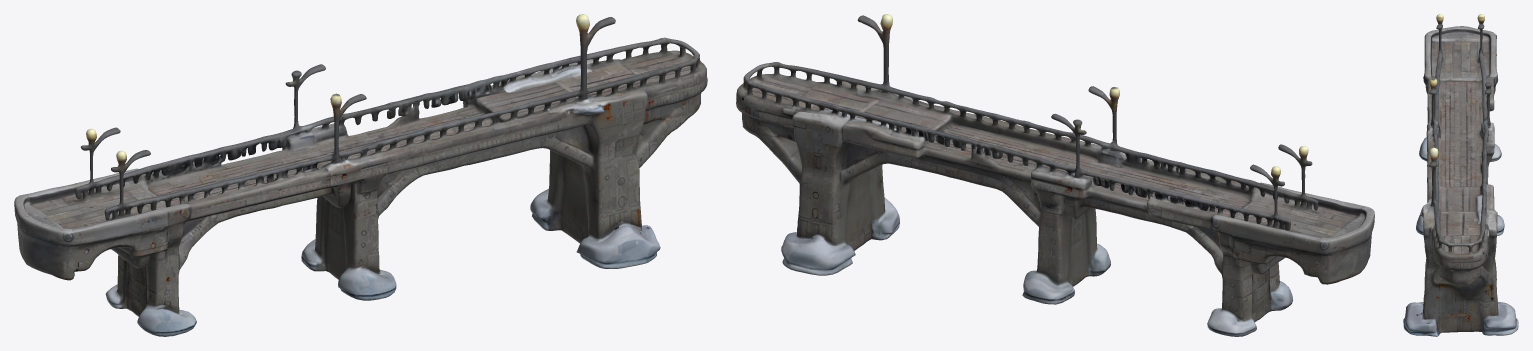
The model's file is tomsk_bridge.glb.
3 views of the same model, side by side, from view 1: azimuth 30°, elevation 25°; view 2: azimuth 150°, elevation 25°; view 3: azimuth 270°, elevation 25° (orthographic). The views are drawn at different scales.
Visible parts, largest first — view 1: tripo_node_c25822bb-dffb-48bd-b02d-7e86b9da2da3; view 2: tripo_node_c25822bb-dffb-48bd-b02d-7e86b9da2da3; view 3: tripo_node_c25822bb-dffb-48bd-b02d-7e86b9da2da3.
Part boxes in pixels (x1,y1,x2,y2): tripo_node_c25822bb-dffb-48bd-b02d-7e86b9da2da3: (14, 14, 707, 336); tripo_node_c25822bb-dffb-48bd-b02d-7e86b9da2da3: (736, 14, 1374, 336); tripo_node_c25822bb-dffb-48bd-b02d-7e86b9da2da3: (1403, 14, 1518, 336).
Bounding box in the file's own units: 0.9812 × 0.337 × 0.2101.
Materials: 1 (1 with a texture image).
